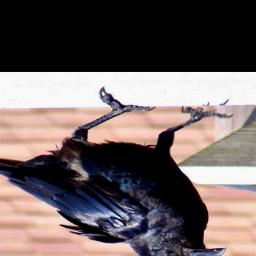Crow: (0, 86, 233, 256)
